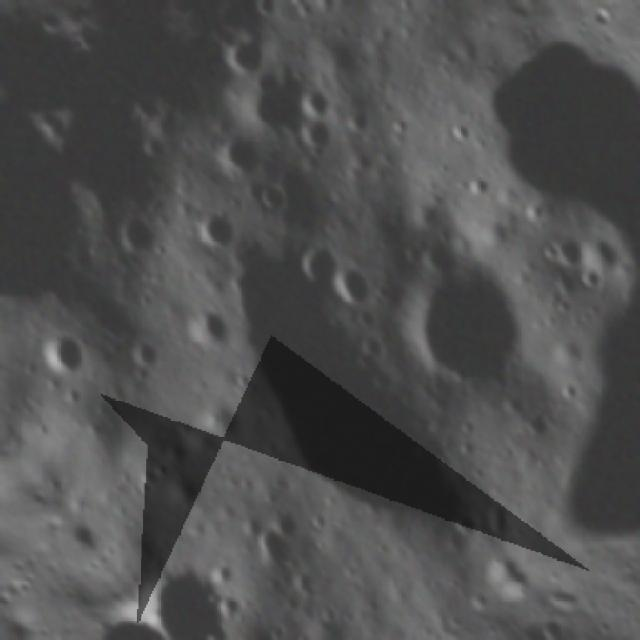crater: (0, 123, 146, 357), (375, 238, 556, 419), (226, 52, 337, 163), (132, 546, 262, 640), (236, 513, 316, 596), (30, 318, 104, 391), (216, 21, 290, 94), (284, 230, 358, 302), (322, 253, 393, 325), (179, 297, 247, 366), (189, 392, 257, 458), (104, 207, 170, 273), (211, 130, 275, 196), (187, 200, 250, 263), (161, 464, 216, 522), (249, 172, 302, 225), (297, 113, 348, 164), (73, 509, 122, 562), (547, 230, 596, 282), (572, 257, 620, 305), (478, 548, 524, 592)
